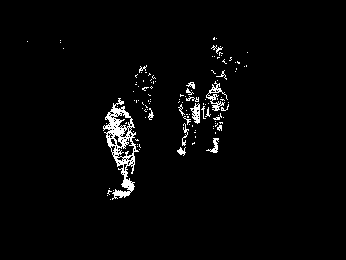person: (100, 98, 138, 199), (201, 81, 229, 153), (175, 80, 199, 160), (131, 62, 156, 120)
